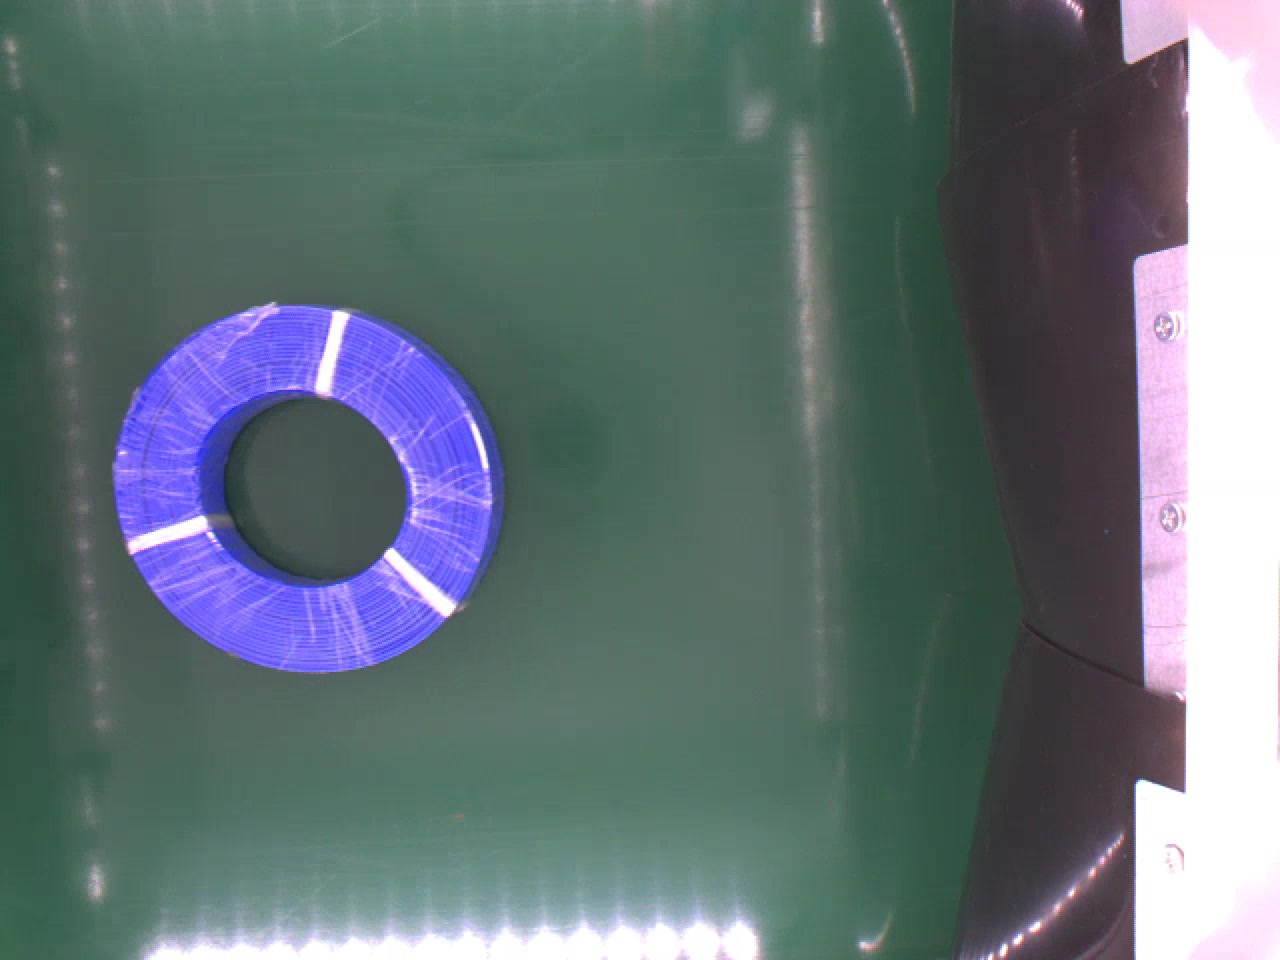blue: (111, 295, 510, 682)
